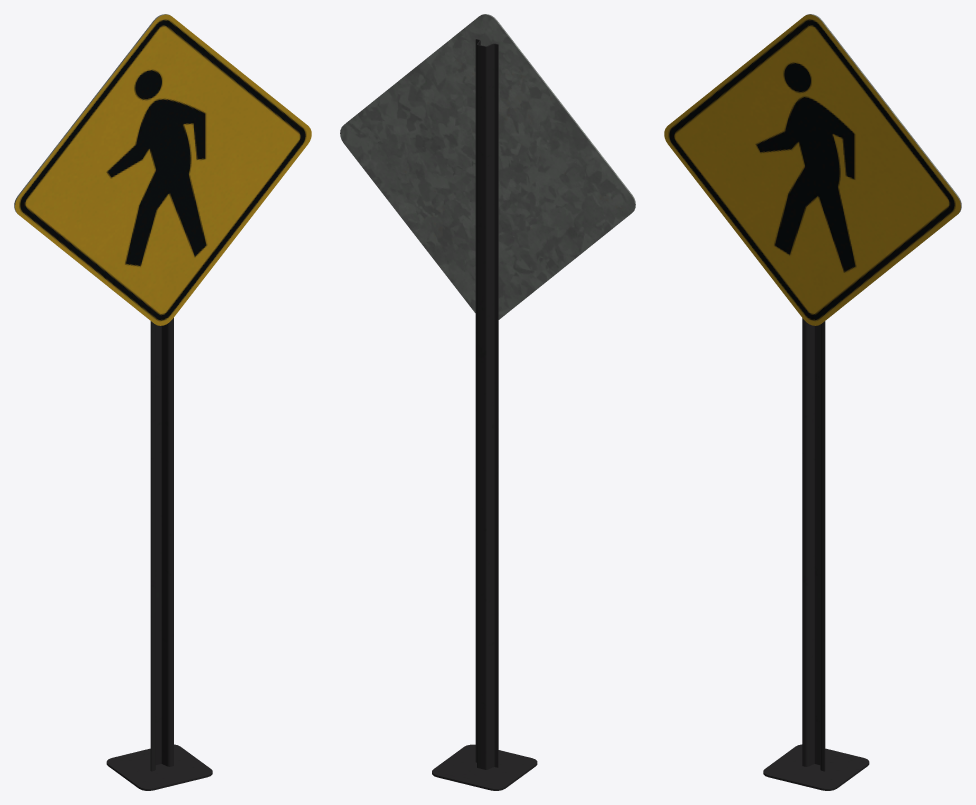
3 views of the same model, side by side, from view 1: azimuth 30°, elevation 25°; view 2: azimuth 150°, elevation 25°; view 3: azimuth 330°, elevation 25° (orthographic).
Visible parts, largest first — view 1: Sign_PedestrianDiamond3; view 2: Sign_PedestrianDiamond3; view 3: Sign_PedestrianDiamond3.
Part boxes in pixels (<box>): Sign_PedestrianDiamond3: <box>14,14,311,790</box>; Sign_PedestrianDiamond3: <box>340,14,635,790</box>; Sign_PedestrianDiamond3: <box>664,14,961,790</box>.
Bounding box in the file's own units: 1.04 × 2.53 × 0.254.
Materials: 1 (1 with a texture image).
